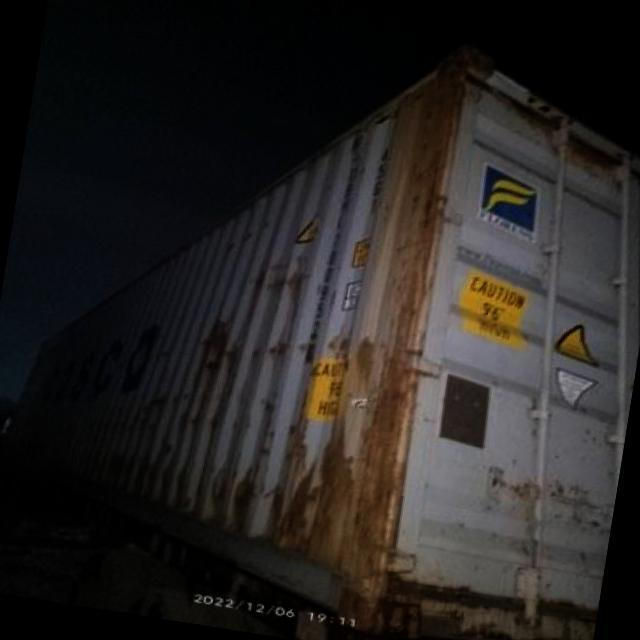rust: (306, 35, 501, 638), (273, 444, 343, 567), (205, 466, 257, 535), (200, 322, 242, 390)
